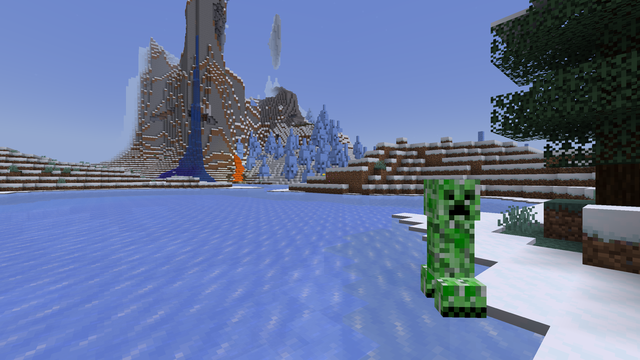creepers: (416, 173, 482, 319)
